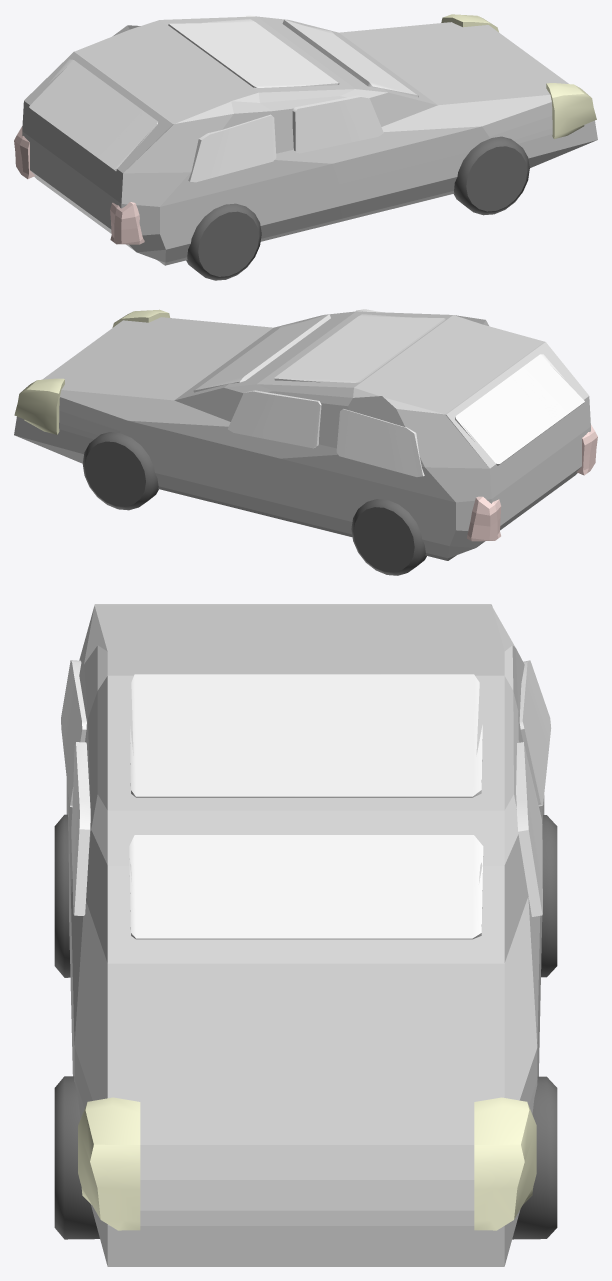
Rendered from CarroBlanco.fbx.
3 views of the same model, one above another, from view 1: azimuth 30°, elevation 25°; view 2: azimuth 150°, elevation 25°; view 3: azimuth 270°, elevation 25° (orthographic). The views are drawn at different scales.
Parts seen in each view (by area): view 1: pCube1, pCube10, pCube15, pCylinder1, pCylinder2, pCube8, pCube13, pCube6, pCube9, pCube11; view 2: pCube1, pCube10, pCube15, pCylinder3, pCylinder4, pCube12, pCube14, pCube6, pCube9, pCube11; view 3: pCube1, pCube15, pCube6, pCube9, pCylinder1, pCylinder3, pCube12, pCube14, pCube8, pCylinder4, pCylinder2, pCube13.
Boxes of the visible parts, left/top/right/bottom form: pCube1: left=22, top=16, right=597, bottom=265; pCube10: left=29, top=59, right=157, bottom=170; pCube15: left=168, top=19, right=339, bottom=87; pCylinder1: left=454, top=136, right=529, bottom=215; pCylinder2: left=186, top=203, right=261, bottom=280; pCube8: left=292, top=95, right=383, bottom=153; pCube13: left=188, top=114, right=276, bottom=182; pCube6: left=282, top=20, right=418, bottom=97; pCube9: left=441, top=14, right=596, bottom=139; pCube11: left=14, top=126, right=144, bottom=244; pCube1: left=14, top=311, right=590, bottom=560; pCube10: left=455, top=354, right=584, bottom=465; pCube15: left=274, top=314, right=445, bottom=382; pCylinder3: left=82, top=432, right=158, bottom=510; pCylinder4: left=351, top=499, right=426, bottom=575; pCube12: left=228, top=390, right=321, bottom=448; pCube14: left=336, top=409, right=424, bottom=476; pCube6: left=193, top=314, right=330, bottom=392; pCube9: left=14, top=309, right=170, bottom=434; pCube11: left=467, top=425, right=597, bottom=541; pCube1: left=66, top=604, right=544, bottom=1266; pCube15: left=130, top=674, right=482, bottom=797; pCube6: left=129, top=835, right=483, bottom=939; pCube9: left=78, top=1097, right=536, bottom=1230; pCylinder1: left=54, top=1076, right=99, bottom=1239; pCylinder3: left=512, top=1076, right=557, bottom=1239; pCube12: left=516, top=742, right=542, bottom=916; pCube14: left=519, top=660, right=551, bottom=806; pCube8: left=71, top=742, right=90, bottom=915; pCylinder4: left=541, top=815, right=557, bottom=977; pCylinder2: left=54, top=814, right=70, bottom=977; pCube13: left=61, top=660, right=86, bottom=807.
Size of the model in its own units: 24.46 by 8.28 by 11.09.
